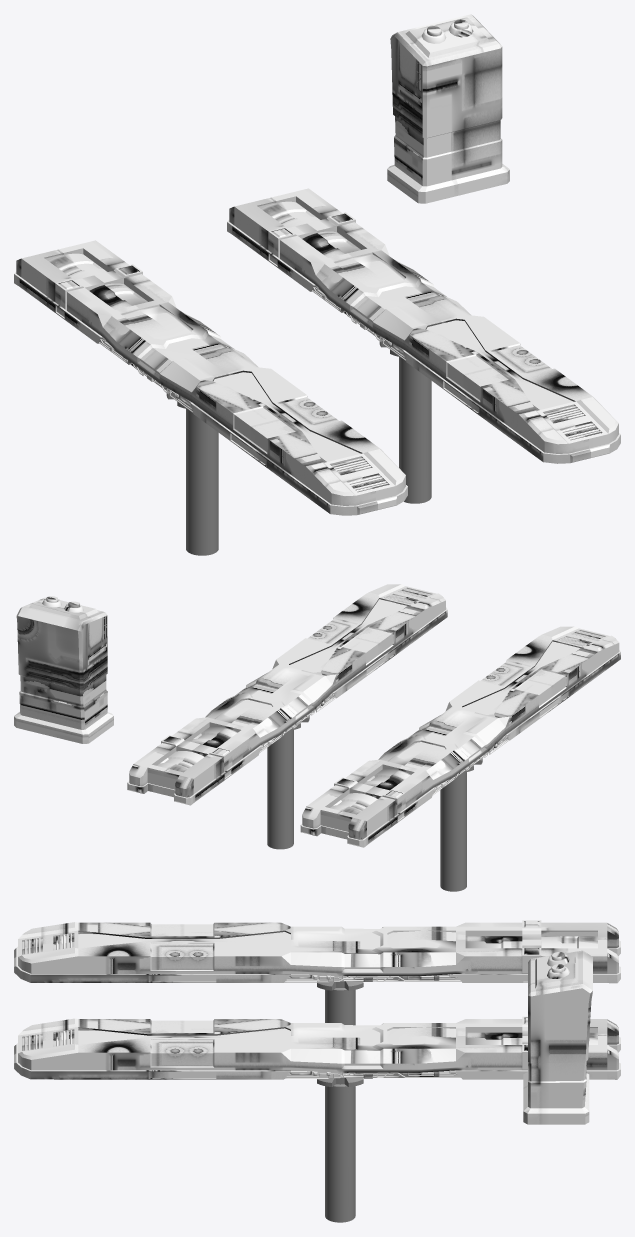
Rendered from liftSystem.FBX.
3 views of the same model, one above another, from view 1: azimuth 30°, elevation 25°; view 2: azimuth 150°, elevation 25°; view 3: azimuth 270°, elevation 25° (orthographic). The views are drawn at different scales.
Visible parts, largest first — view 1: Box9729, Box9734, Box9720, RightPillar, LeftPillar; view 2: Box9734, Box9729, Box9720, LeftPillar, RightPillar; view 3: Box9734, Box9729, Box9720, LeftPillar, RightPillar.
Boxes of the visible parts, left/top/right/bottom form: Box9729: left=227, top=188, right=620, bottom=463; Box9734: left=14, top=240, right=407, bottom=515; Box9720: left=387, top=14, right=509, bottom=203; RightPillar: left=186, top=409, right=218, bottom=555; LeftPillar: left=399, top=357, right=431, bottom=503; Box9734: left=300, top=626, right=620, bottom=847; Box9729: left=127, top=584, right=447, bottom=805; Box9720: left=14, top=597, right=113, bottom=743; LeftPillar: left=267, top=730, right=293, bottom=849; RightPillar: left=440, top=772, right=466, bottom=891; Box9734: left=14, top=920, right=620, bottom=983; Box9729: left=14, top=1016, right=620, bottom=1079; Box9720: left=523, top=950, right=592, bottom=1124; LeftPillar: left=325, top=1084, right=355, bottom=1222; RightPillar: left=325, top=988, right=355, bottom=1025.
Bounding box in the file's own units: 431 × 319 × 541.
